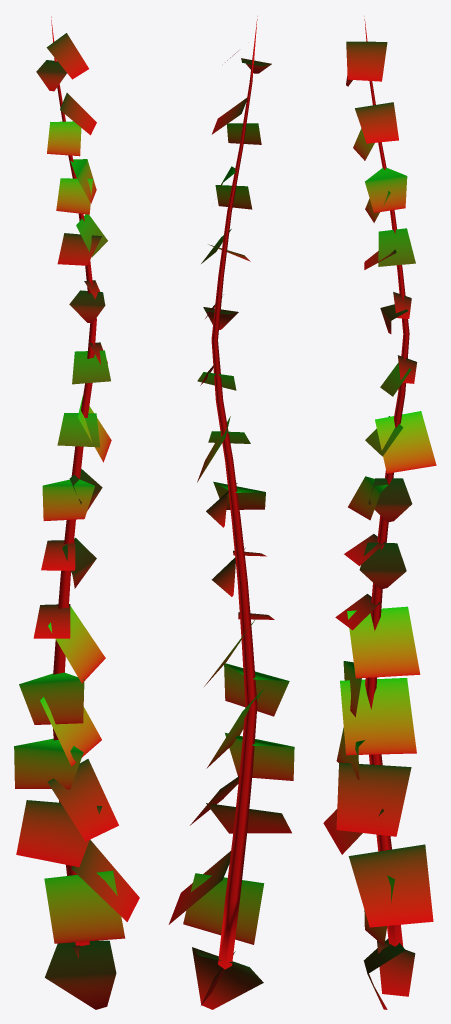
File: Var10_LOD3.fbx
3 renders of one model, left to right at view 1: azimuth 30°, elevation 25°; view 2: azimuth 210°, elevation 25°; view 3: azimuth 330°, elevation 25°, orthographic.
Parts seen in each view (by area): view 1: _b2c2_Var10_LOD3; view 2: _b2c2_Var10_LOD3; view 3: _b2c2_Var10_LOD3.
Boxes of the visible parts, bbox=[...] form: _b2c2_Var10_LOD3: bbox=[14, 16, 139, 1009]; _b2c2_Var10_LOD3: bbox=[168, 16, 294, 1009]; _b2c2_Var10_LOD3: bbox=[323, 16, 436, 1009].
Bounding box in the file's own units: 7.72 × 62.25 × 5.64.
